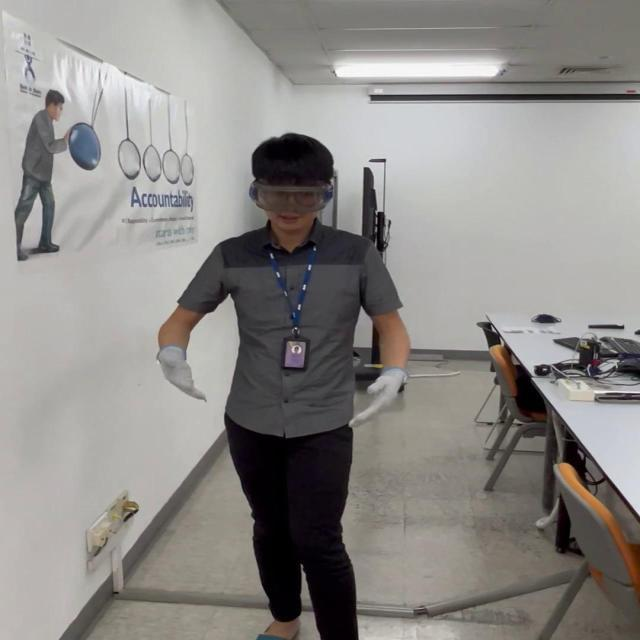gloved_hand: (345, 364, 407, 419), (157, 344, 207, 396)
